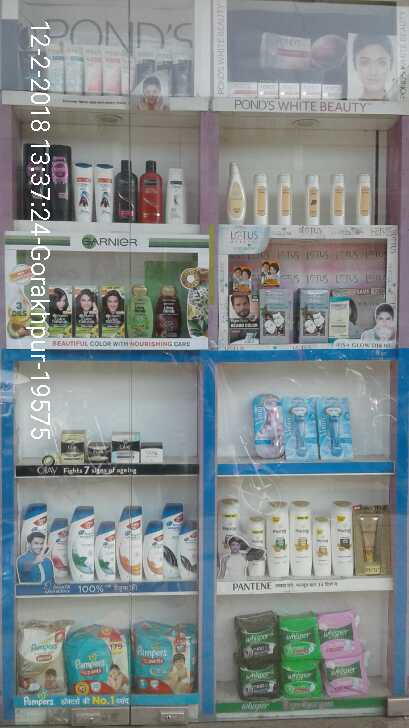venus: (276, 395, 315, 458), (315, 397, 350, 458), (250, 395, 276, 455)
